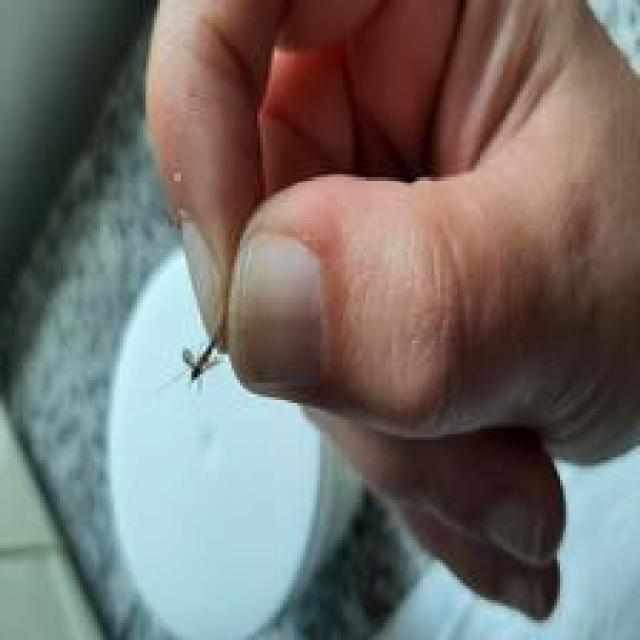Culex: (157, 332, 229, 394)
